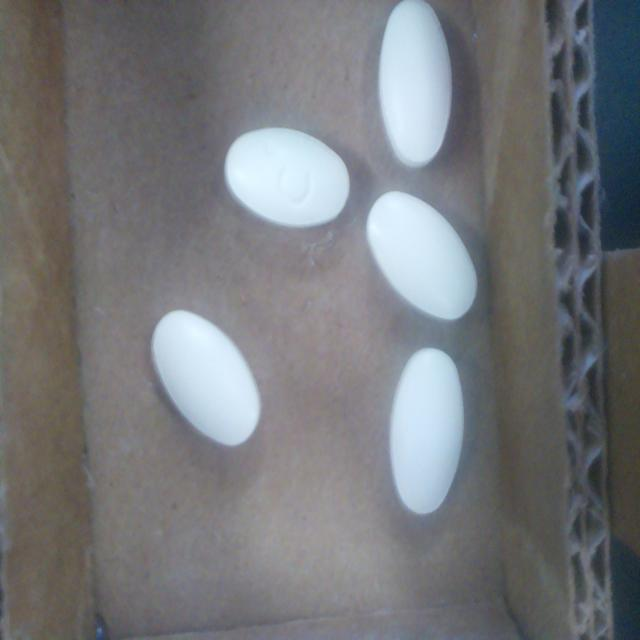pill: (151, 310, 262, 446), (366, 191, 477, 321), (224, 128, 350, 227), (378, 0, 452, 168), (390, 348, 464, 515)
